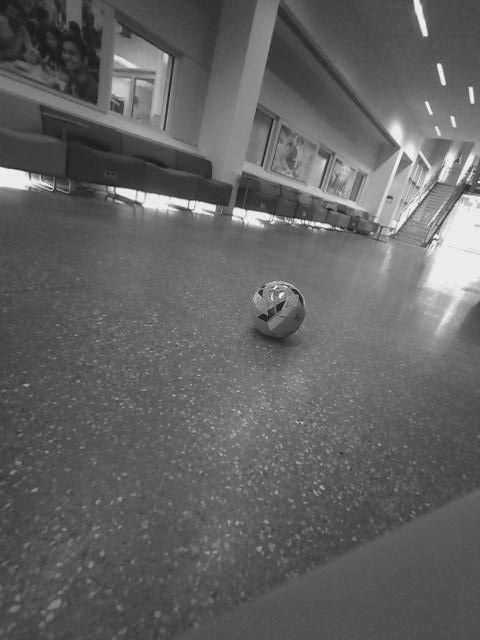ball: (293, 247, 329, 279)
